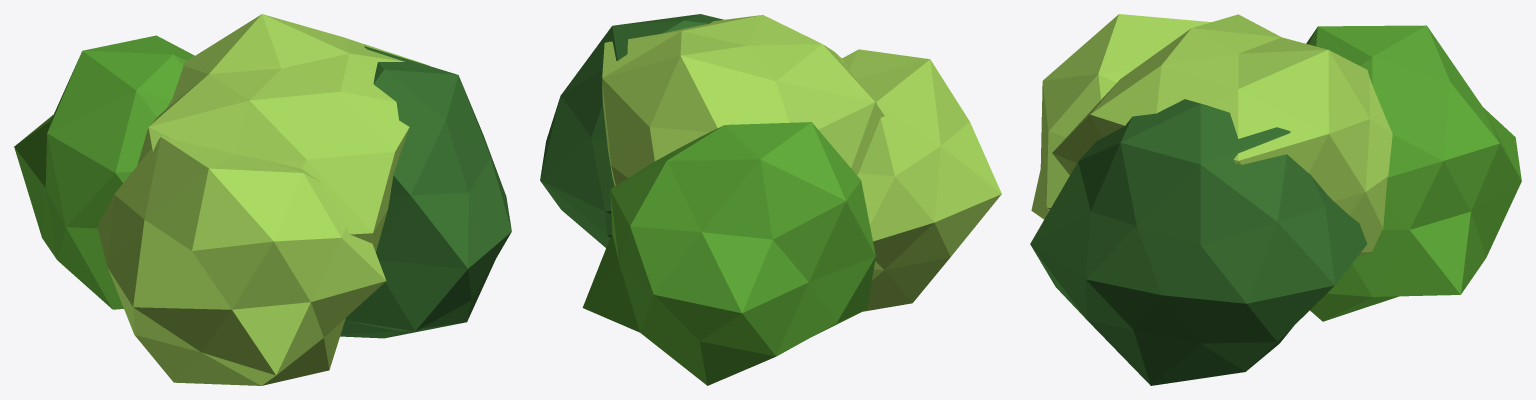
Rendered from bush_1.glb.
3 views of the same model, side by side, from view 1: azimuth 30°, elevation 25°; view 2: azimuth 150°, elevation 25°; view 3: azimuth 270°, elevation 25° (orthographic). The views are drawn at different scales.
Parts seen in each view (by area): view 1: bush_1; view 2: bush_1; view 3: bush_1.
Part boxes in pixels (box(x1,y1,x2,y2)): bush_1: box(14, 14, 511, 385); bush_1: box(540, 14, 1001, 385); bush_1: box(1030, 14, 1521, 385).
Size of what is drawn, in the model's own units: 1.78 by 1.21 by 1.81.
